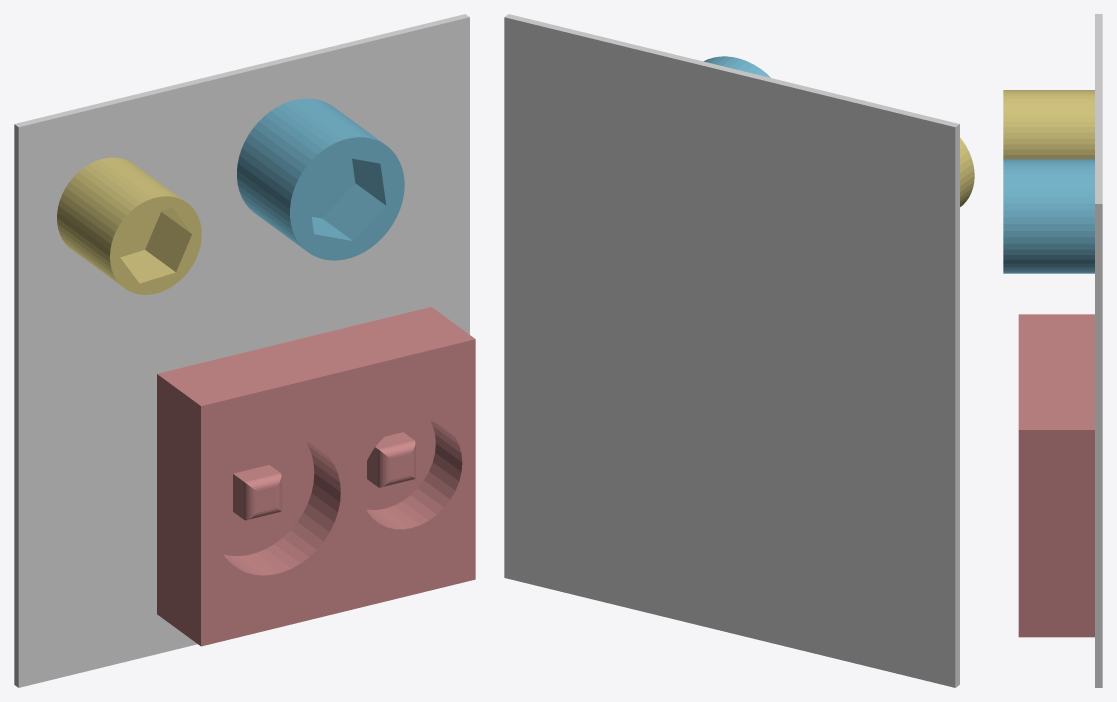
Rendered from pickup_layout.glb.
The picture shows the model from 3 angles, left to right: view 1: azimuth 30°, elevation 25°; view 2: azimuth 150°, elevation 25°; view 3: azimuth 270°, elevation 25°; orthographic projection. The views are drawn at different scales.
Parts seen in each view (by area): view 1: world, 0.obj, 2.obj, 1.obj; view 2: world, 1.obj; view 3: 0.obj, 2.obj, 1.obj, world.
Boxes of the visible parts, x1=… form: world: x1=14, y1=14, x2=469, y2=687; 0.obj: x1=157, y1=307, x2=475, y2=646; 2.obj: x1=237, y1=98, x2=404, y2=260; 1.obj: x1=57, y1=157, x2=201, y2=294; world: x1=504, y1=14, x2=959, y2=687; 1.obj: x1=960, y1=137, x2=974, y2=206; 0.obj: x1=1018, y1=314, x2=1094, y2=637; 2.obj: x1=1003, y1=159, x2=1094, y2=273; 1.obj: x1=1003, y1=90, x2=1094, y2=159; world: x1=1095, y1=14, x2=1102, y2=687.
Bounding box in the file's own units: 11.79 × 14 × 2.6.
